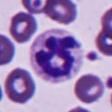N: (28, 28, 84, 83)
